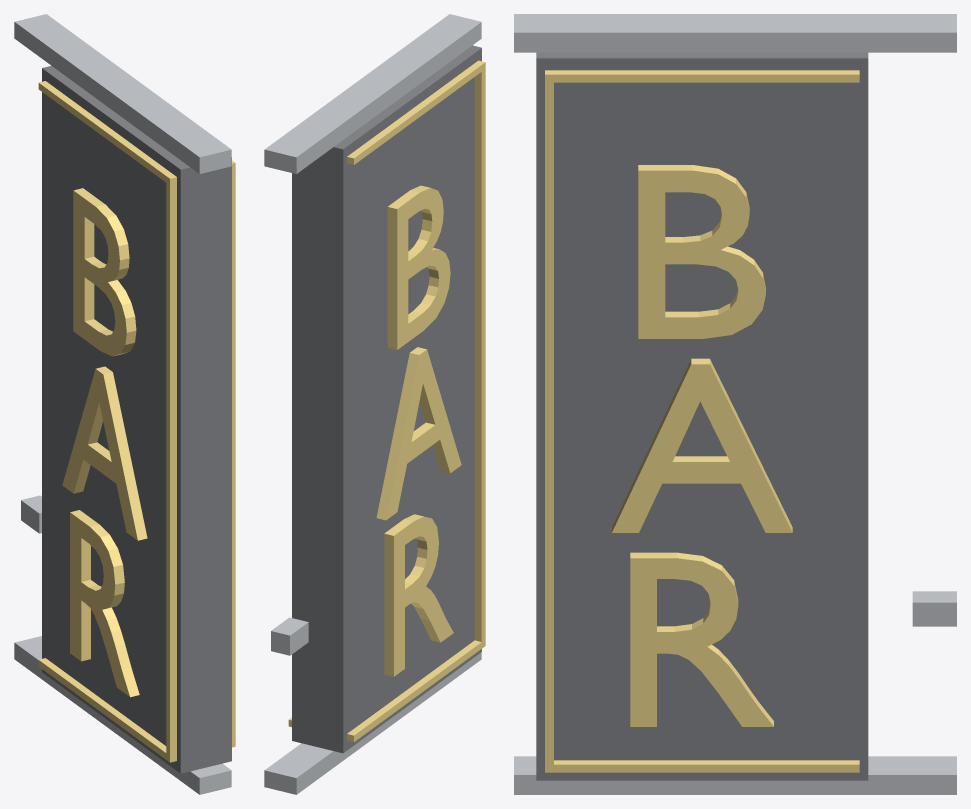
The model's file is neon_bar.glb.
3 renders of one model, left to right at view 1: azimuth 30°, elevation 25°; view 2: azimuth 150°, elevation 25°; view 3: azimuth 270°, elevation 25°, orthographic. The views are drawn at different scales.
Parts seen in each view (by area): view 1: neon_bar; view 2: neon_bar; view 3: neon_bar.
Boxes of the visible parts, <box> form: neon_bar: <box>14,14,235,794</box>; neon_bar: <box>264,14,485,794</box>; neon_bar: <box>514,14,956,794</box>.
Bounding box in the file's own units: 0.23 × 1.9 × 1.
